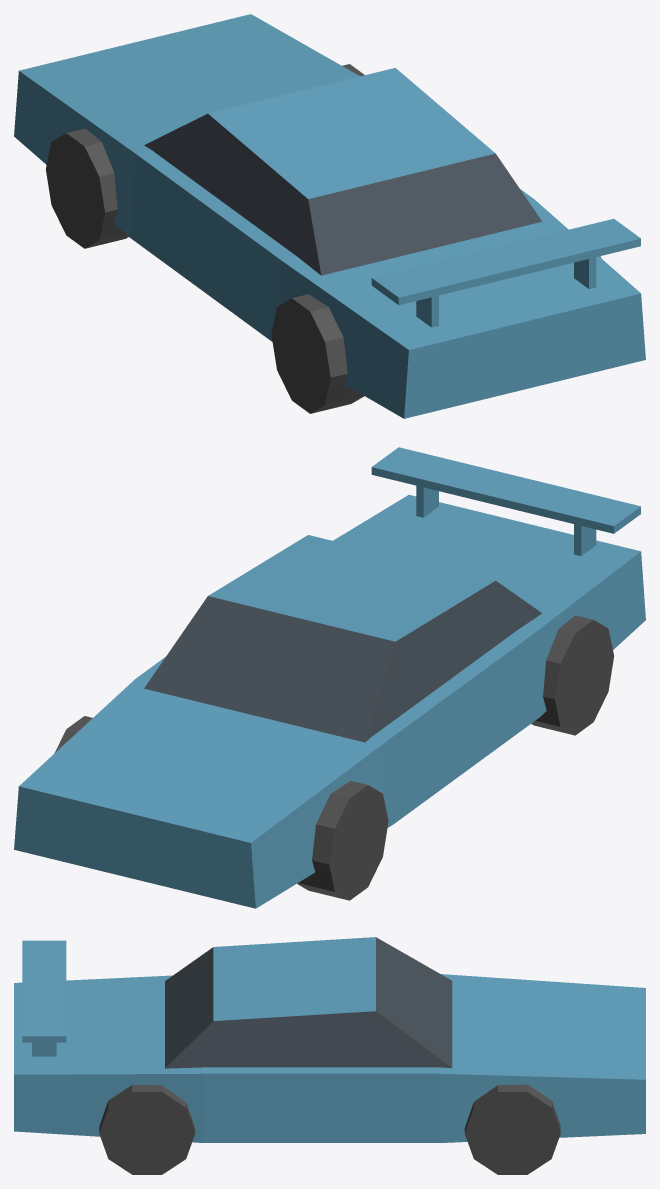
3 views of the same model, one above another, from view 1: azimuth 30°, elevation 25°; view 2: azimuth 150°, elevation 25°; view 3: azimuth 270°, elevation 25° (orthographic). The views are drawn at different scales.
Parts seen in each view (by area): view 1: nissan_gtr_r34_body, nissan_gtr_r34_Wheel_RL, nissan_gtr_r34_Wheel_FL; view 2: nissan_gtr_r34_body, nissan_gtr_r34_Wheel_FL, nissan_gtr_r34_Wheel_RL; view 3: nissan_gtr_r34_body, nissan_gtr_r34_Wheel_FR, nissan_gtr_r34_Wheel_RR.
Boxes of the visible parts, x1,y1,x2,y2 form: nissan_gtr_r34_body: (14, 14, 645, 418); nissan_gtr_r34_Wheel_RL: (271, 294, 364, 413); nissan_gtr_r34_Wheel_FL: (45, 128, 128, 248); nissan_gtr_r34_body: (14, 447, 645, 908); nissan_gtr_r34_Wheel_FL: (297, 780, 388, 900); nissan_gtr_r34_Wheel_RL: (531, 615, 613, 735); nissan_gtr_r34_body: (14, 937, 645, 1142); nissan_gtr_r34_Wheel_FR: (464, 1084, 560, 1174); nissan_gtr_r34_Wheel_RR: (99, 1084, 195, 1174).
Bounding box in the file's own units: 1.93 × 1.16 × 4.6.
